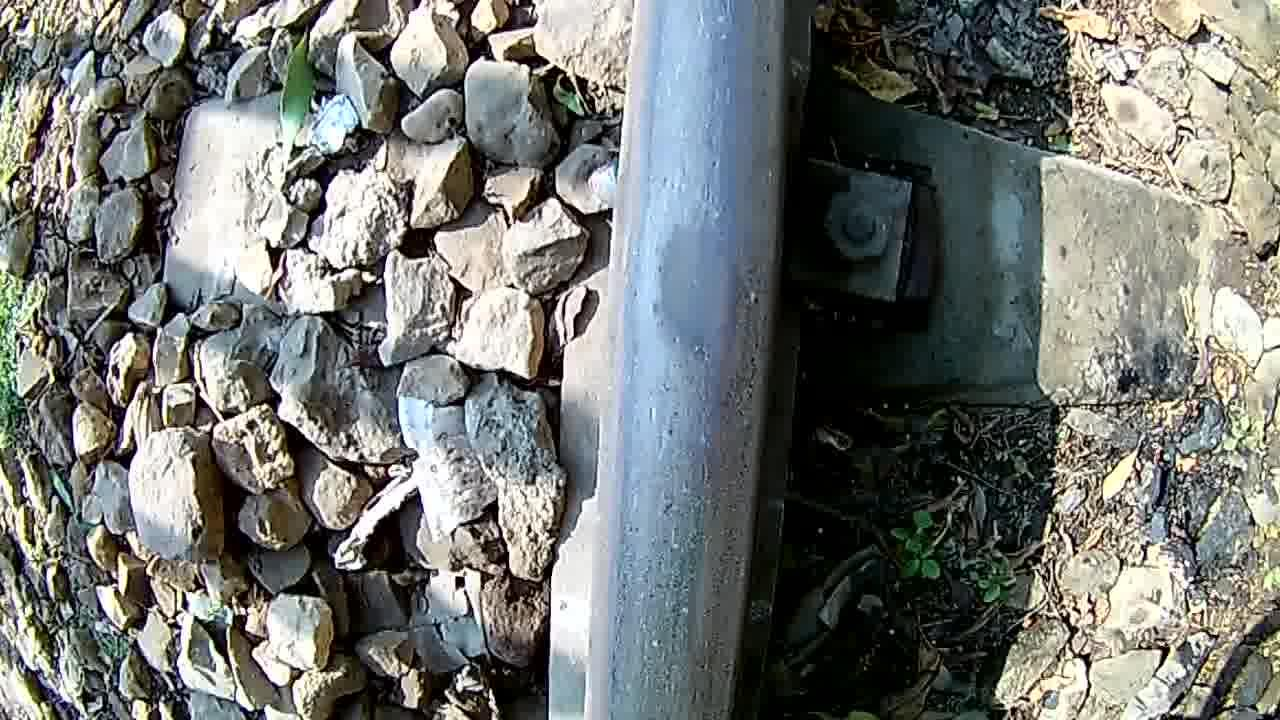bolt_missing: (618, 187, 784, 434)
